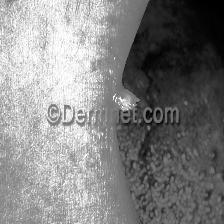Toxin: (111, 82, 140, 116)
